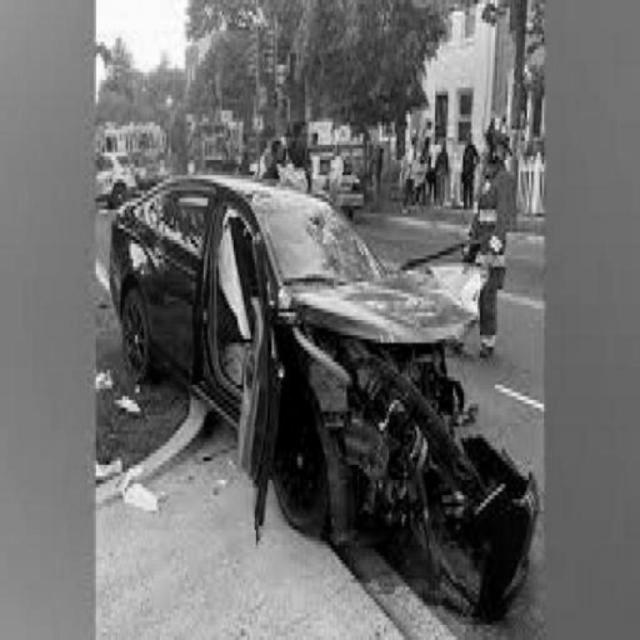person: (472, 143, 509, 358)
vehicle: (107, 172, 467, 530)
